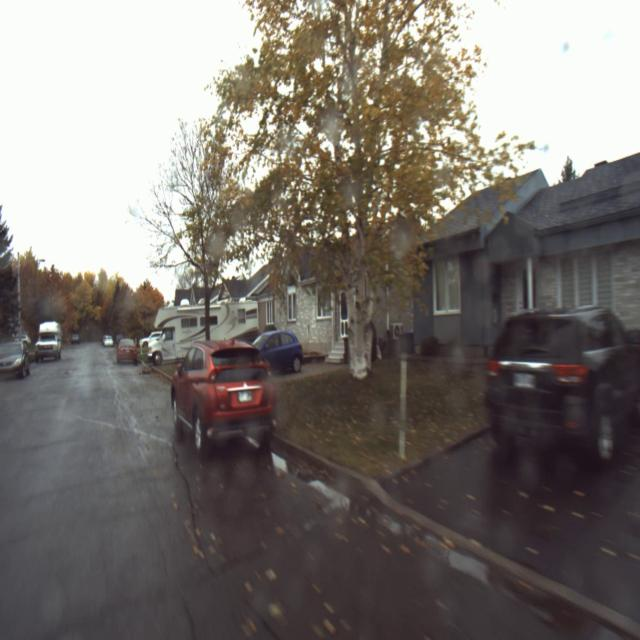car: (476, 304, 640, 471), (167, 340, 282, 460), (1, 337, 28, 382)
